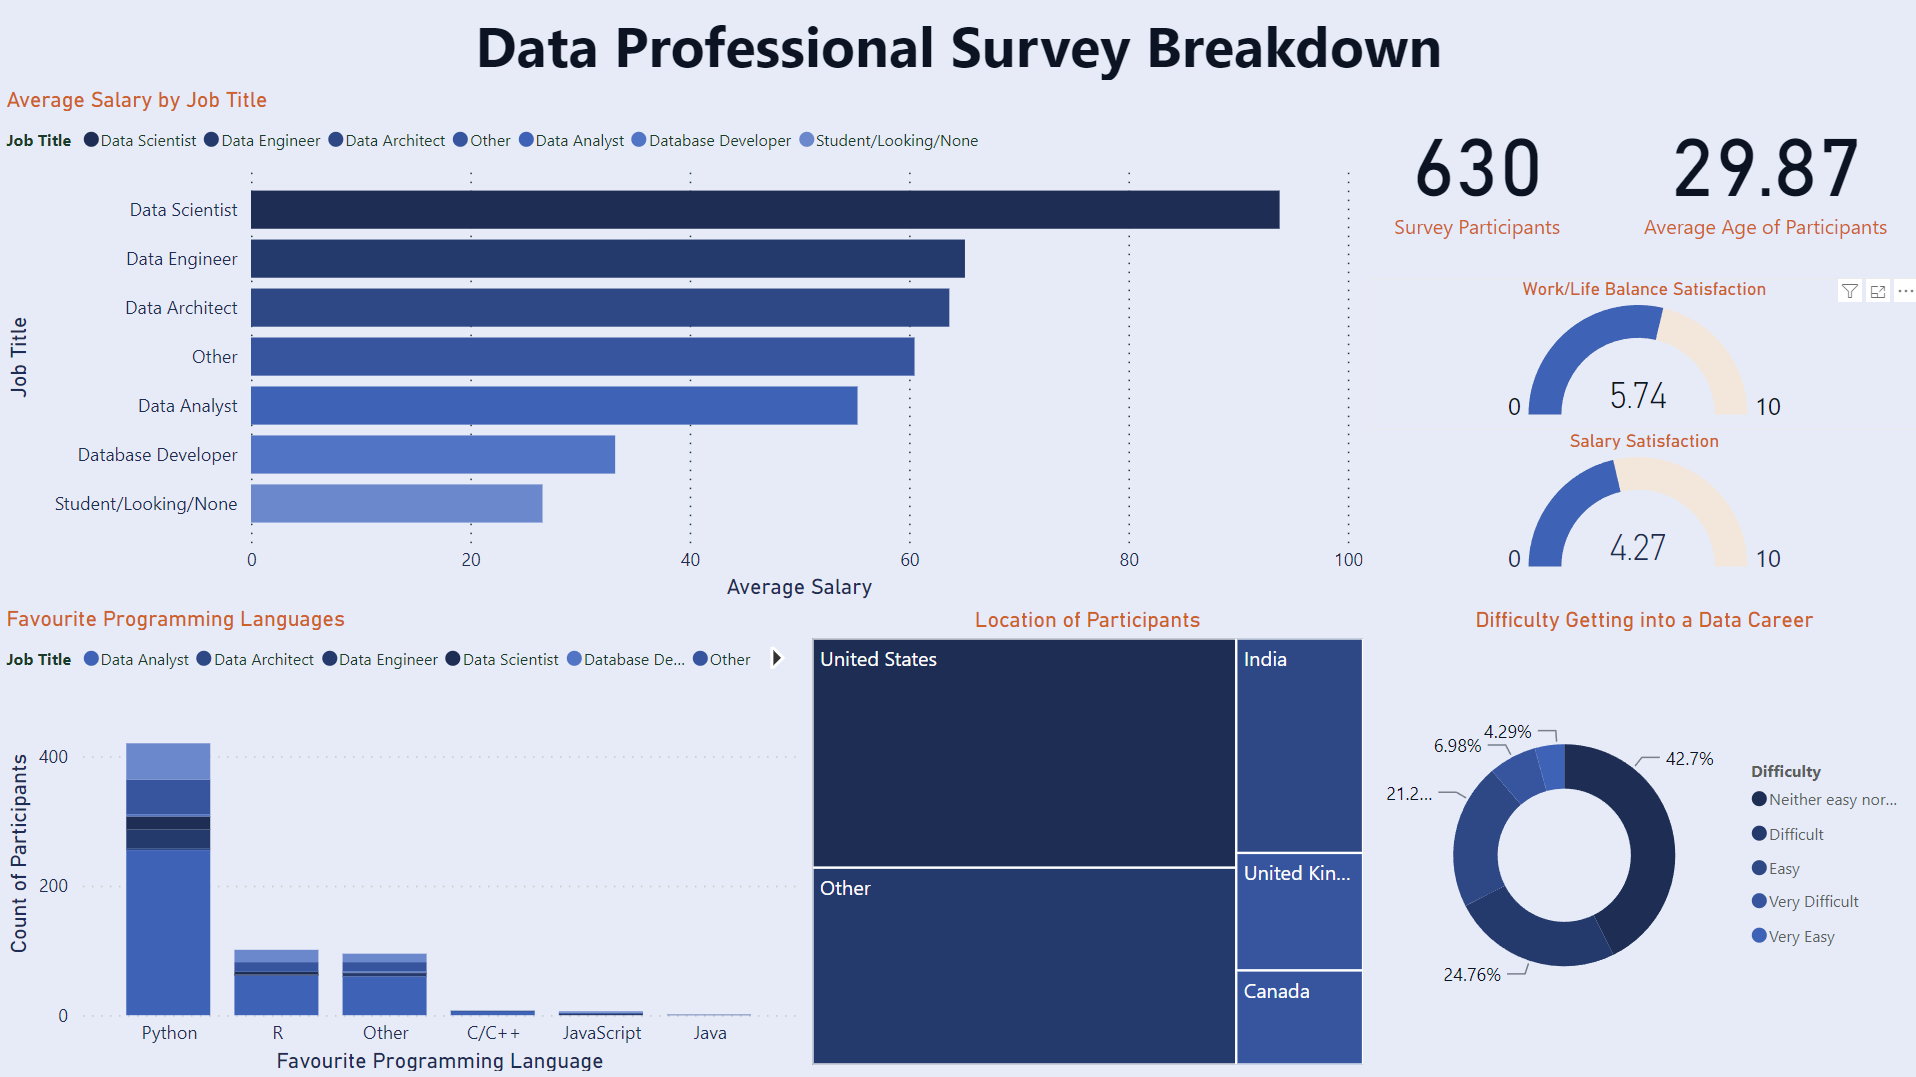

Layout of this report page (visuals, bound fields, positions):
{"tool":"powerbi","page":{"name":"Page 1","canvas":[1280,720],"ordinal":0},"visuals":[{"type":"textbox","box":[0,0,1279.8,58.8],"z":0},{"type":"card","fields":{"Values":["CountNonNull(Data Professional Survey.Unique ID)"]},"box":[896,59,179,109],"z":1000},{"type":"card","fields":{"Values":["Avg(Data Professional Survey.Q10 - Current Age)"]},"box":[1075,59,205,109],"z":2000},{"type":"barChart","title":"Average Salary by Job Title","fields":{"Y":["Avg(Data Professional Survey.Average Salary )"],"Category":["Data Professional Survey.Q1 - Which Title Best Fits your Current Role?.1"],"Series":["Data Professional Survey.Q1 - Which Title Best Fits your Current Role?.1"]},"box":[0,58.8,914.2,345.8],"z":3000},{"type":"columnChart","title":"Favourite Programming Languages","fields":{"Category":["Data Professional Survey.Q5 - Favorite Programming Language.1"],"Y":["CountNonNull(Data Professional Survey.Unique ID)"],"Series":["Data Professional Survey.Q1 - Which Title Best Fits your Current Role?.1"]},"box":[0,404.5,536.9,315.5],"z":4000},{"type":"treemap","title":"Location of Participants","fields":{"Group":["Data Professional Survey.Q11 - Which Country do you live in?.1"],"Values":["CountNonNull(Data Professional Survey.Q11 - Which Country do you live in?.1)"]},"box":[537,405,377,310],"z":5000},{"type":"gauge","title":"Work/Life Balance Satisfaction","fields":{"Y":["Avg(Data Professional Survey.Q6 - How Happy are you in your Current Position with the following? (Work/Life Balance))"],"MinValue":["Min(Data Professional Survey.Q6 - How Happy are you in your Current Position with the following? (Work/Life Balance))"],"MaxValue":["Max(Data Professional Survey.Q6 - How Happy are you in your Current Position with the following? (Work/Life Balance))1"]},"box":[914,186,366,101],"z":6000},{"type":"gauge","title":"Salary Satisfaction","fields":{"Y":["Avg(Data Professional Survey.Q6 - How Happy are you in your Current Position with the following? (Salary))"],"MinValue":["Min(Data Professional Survey.Q6 - How Happy are you in your Current Position with the following? (Salary))"],"MaxValue":["Max(Data Professional Survey.Q6 - How Happy are you in your Current Position with the following? (Salary))"]},"box":[914,287,366,101],"z":7000},{"type":"donutChart","title":"Difficulty Getting into a Data Career","fields":{"Category":["Data Professional Survey.Q7 - How difficult was it for you to break into Data?"],"Y":["CountNonNull(Data Professional Survey.Q7 - How difficult was it for you to break into Data?)"]},"box":[914,405,366,315],"z":8000}]}

Visuals, with their boxes in screenshot pixels (x1, y1, x2, y2), scaled from the page's 1280x720 canvas onto the 1916x1077 screenshot:
textbox: x1=0 y1=0 x2=1915 y2=88
card - CountNonNull(Data Professional Survey.Unique ID): x1=1341 y1=88 x2=1609 y2=251
card - Avg(Data Professional Survey.Q10 - Current Age): x1=1609 y1=88 x2=1915 y2=251
"Average Salary by Job Title" barChart: x1=0 y1=88 x2=1368 y2=605
"Favourite Programming Languages" columnChart: x1=0 y1=605 x2=804 y2=1076
"Location of Participants" treemap: x1=804 y1=606 x2=1368 y2=1070
"Work/Life Balance Satisfaction" gauge: x1=1368 y1=278 x2=1915 y2=429
"Salary Satisfaction" gauge: x1=1368 y1=429 x2=1915 y2=580
"Difficulty Getting into a Data Career" donutChart: x1=1368 y1=606 x2=1915 y2=1076
